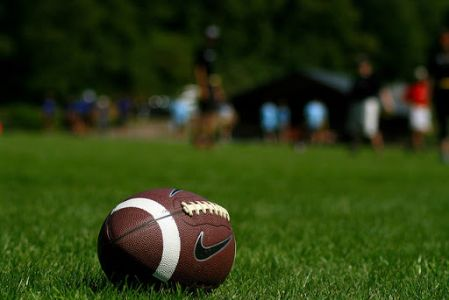futbol americano: (97, 188, 236, 291)
